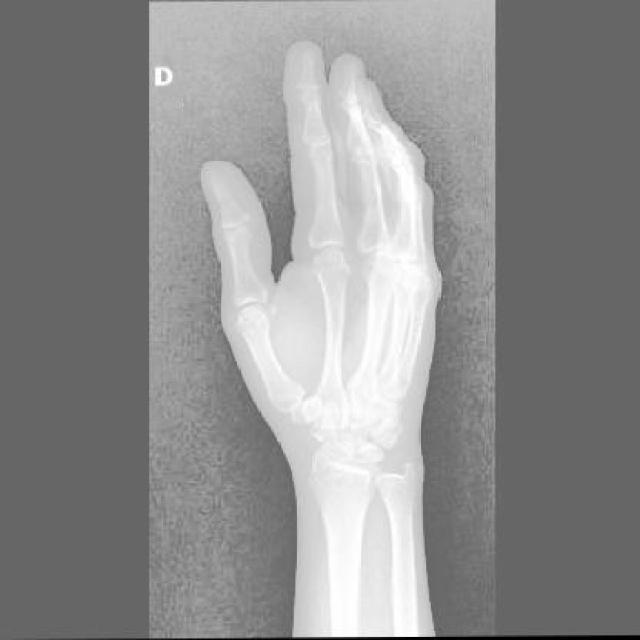Fracture: (316, 427, 345, 450)
